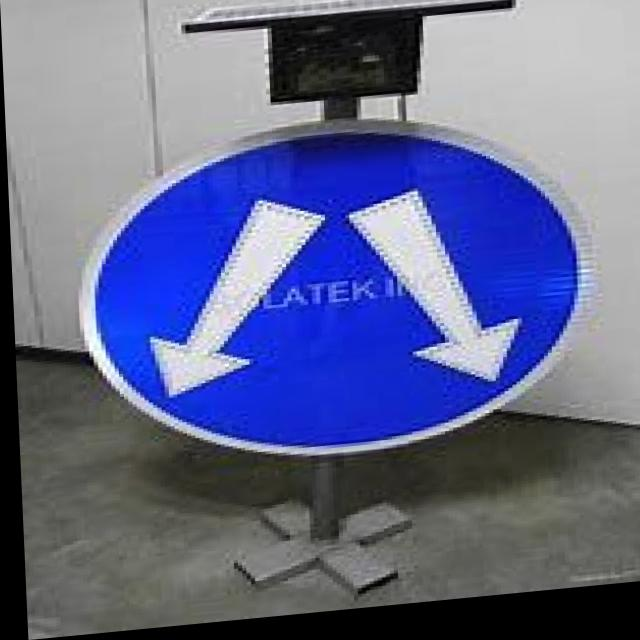PASS_EITHER_SIDE: (74, 115, 591, 474)
